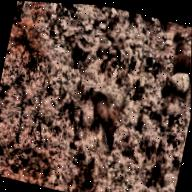boar: (74, 77, 130, 156)
